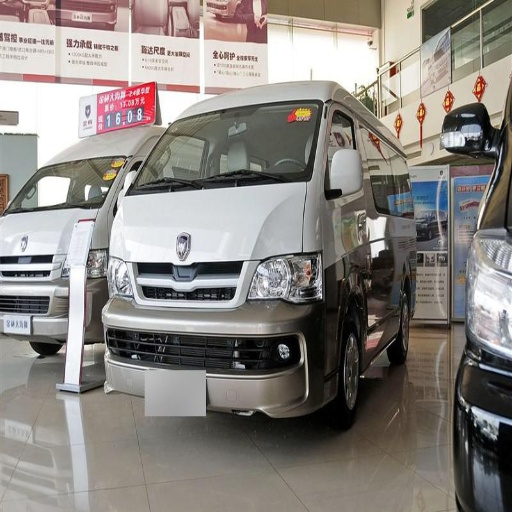front_bumper: (102, 232, 339, 418), (2, 219, 45, 297)
front_glass: (126, 105, 320, 193)
front_left_door: (323, 105, 362, 203)
